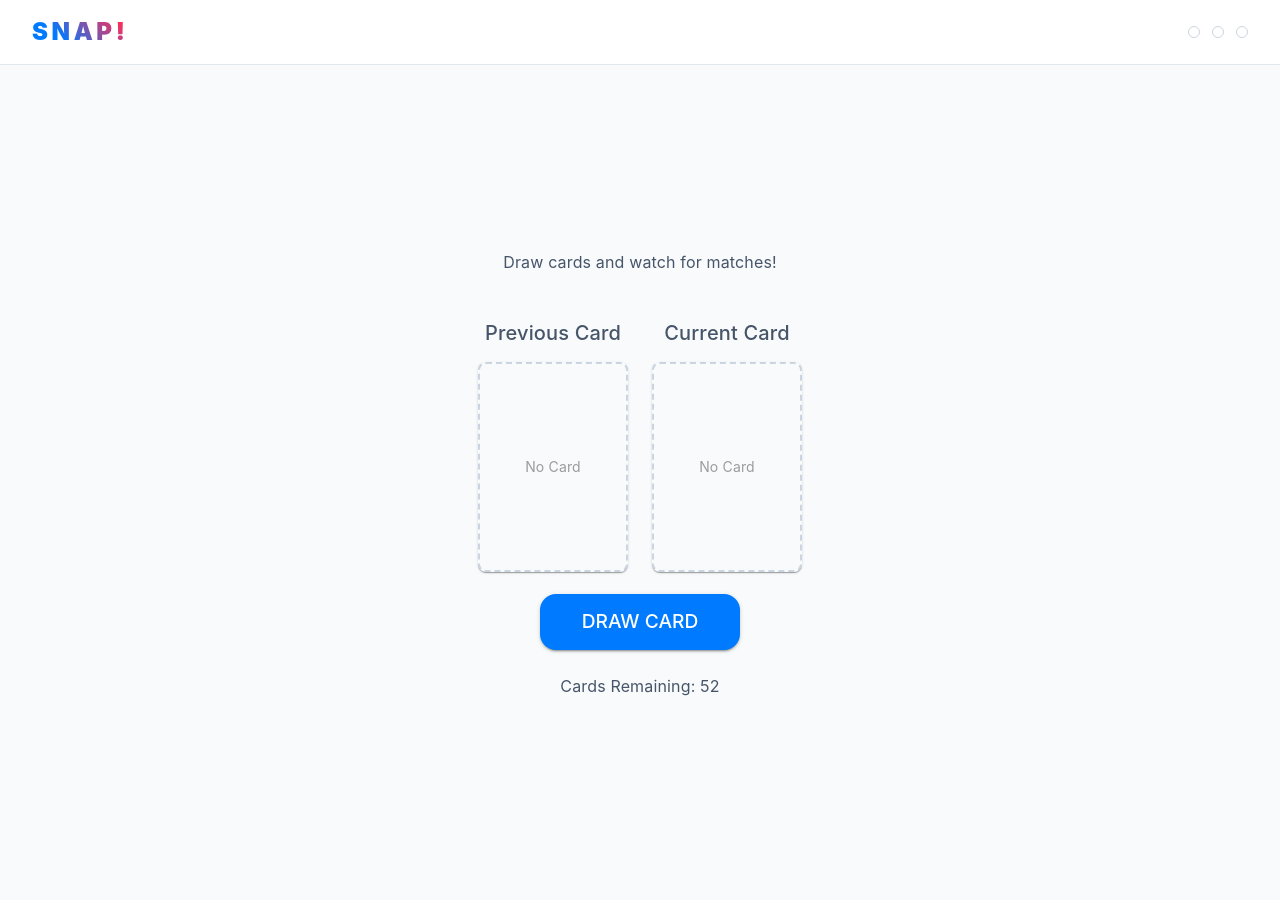
Scenario: App Component Integration › should display drawn card after clicking draw
This screenshot has width=1280, height=900.
Click draw
Click the button "Draw Card": (640, 622) [540,594,740,650]
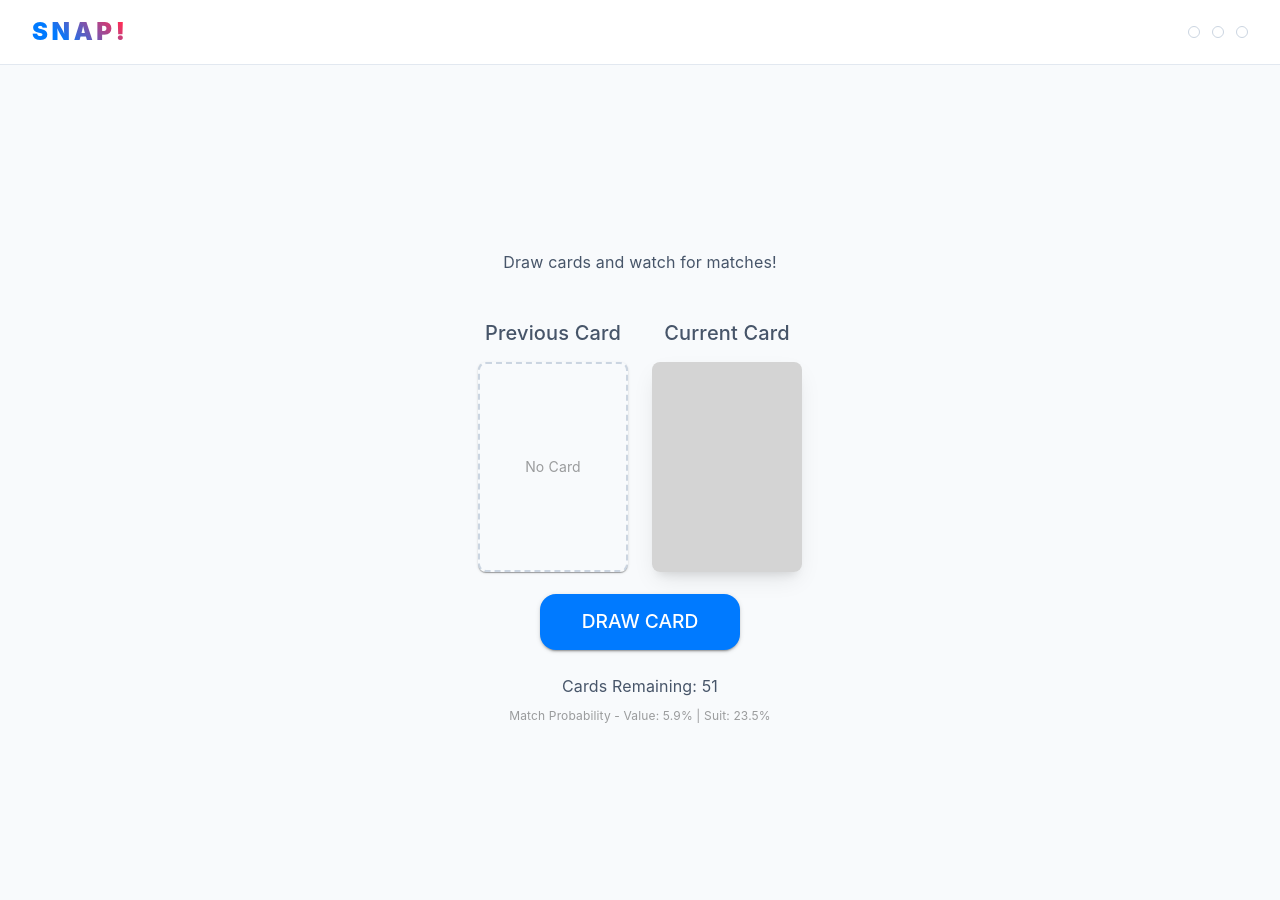
Now the text "Cards Remaining: 51" is shown, box [562,676,718,696]
